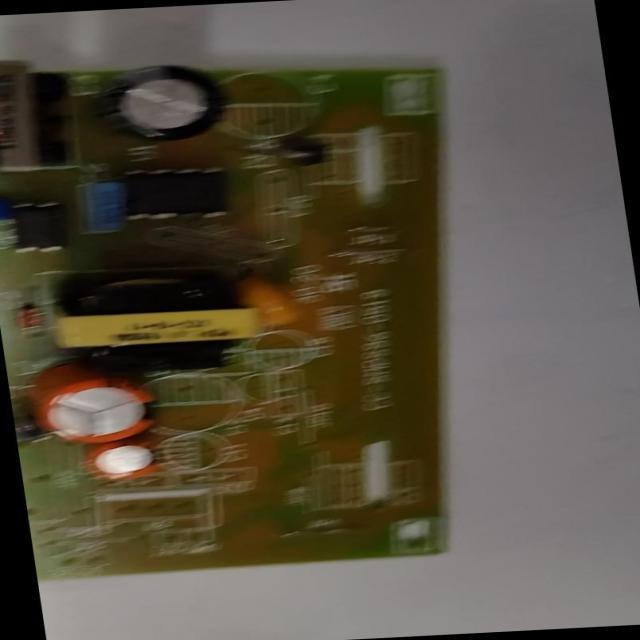Cap1: (31, 372, 158, 446)
Cap2: (83, 438, 164, 482)
Cap3: (103, 62, 221, 146)
MOSFET: (120, 165, 232, 225)
Mov: (0, 192, 6, 226)
Transformer: (48, 270, 257, 374), (0, 57, 79, 173)
